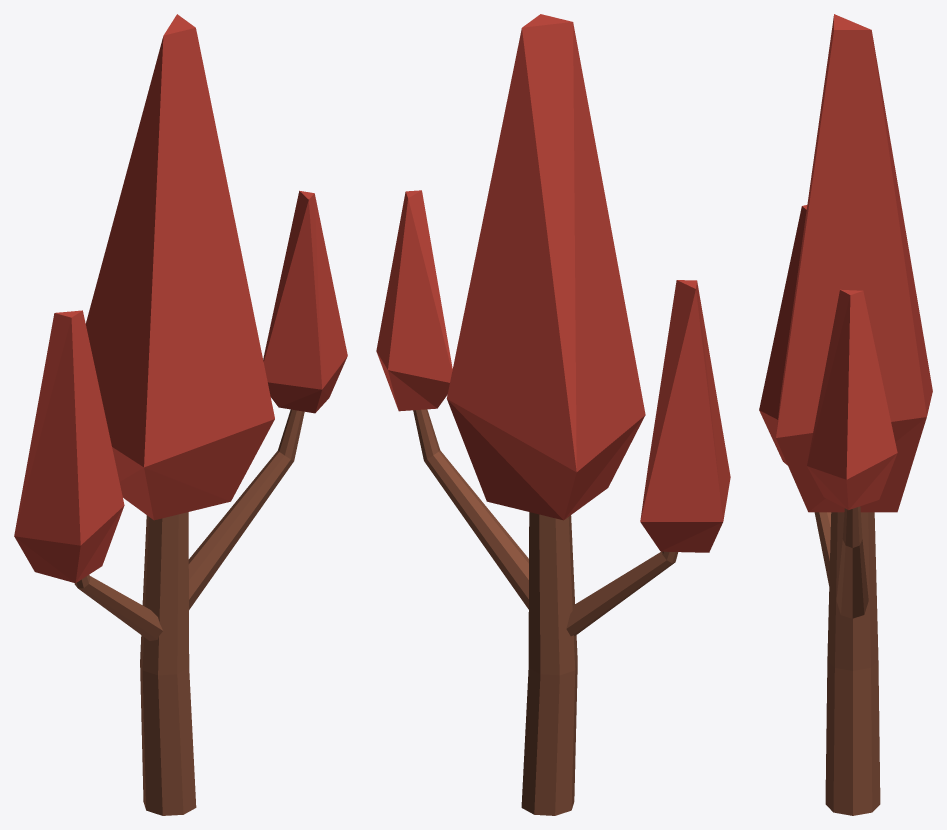
Rendered from Tree_50_summer_red_mat.fbx.
3 views of the same model, side by side, from view 1: azimuth 30°, elevation 25°; view 2: azimuth 150°, elevation 25°; view 3: azimuth 270°, elevation 25° (orthographic).
Parts seen in each view (by area): view 1: Tree_50_summer_red_mat; view 2: Tree_50_summer_red_mat; view 3: Tree_50_summer_red_mat.
Boxes of the visible parts, x1,y1,x2,y2 form: Tree_50_summer_red_mat: (14,14,347,815); Tree_50_summer_red_mat: (376,14,730,815); Tree_50_summer_red_mat: (759,14,932,815).
Bounding box in the file's own units: 118 × 259 × 52.22.
